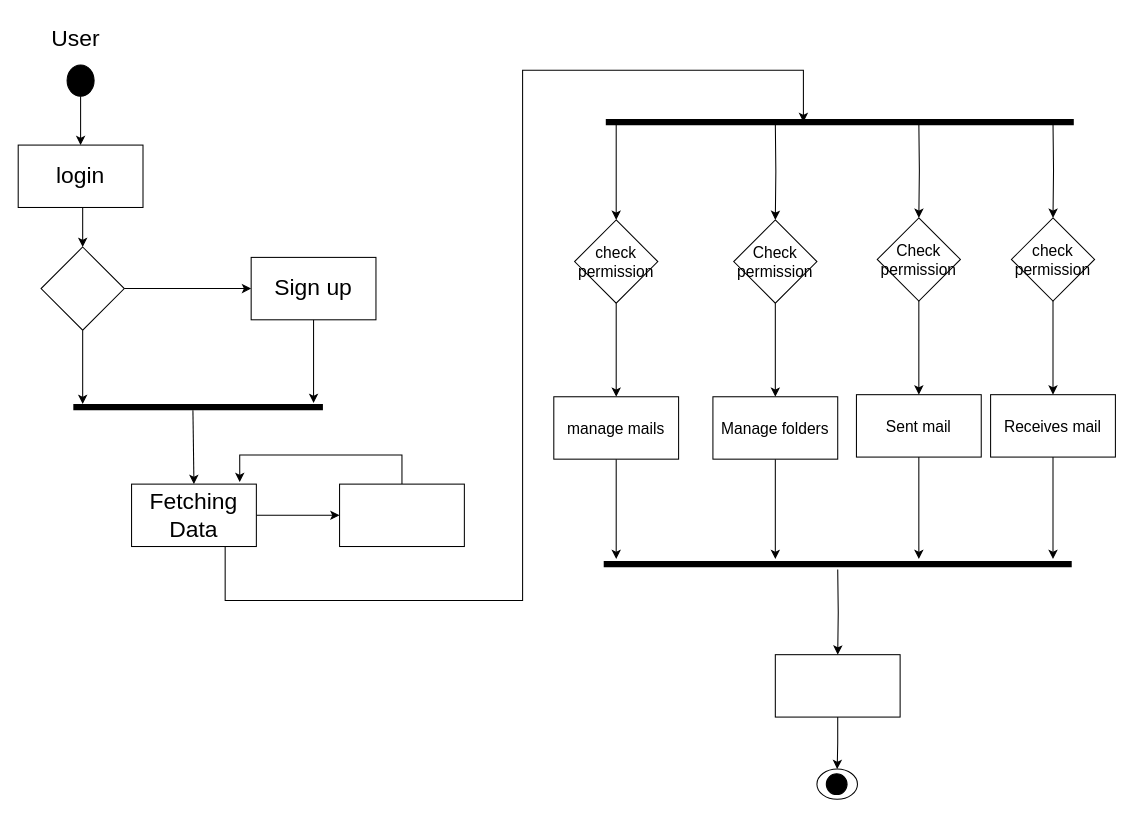
Image size: 1134x817. Some labels were removed from this diagram. The box of each missing label's shape, as (x1, y1, x2, y2) in pixels:
is user: (40, 246, 124, 330)
logout: (774, 654, 900, 717)
Refresh: (339, 483, 464, 547)
